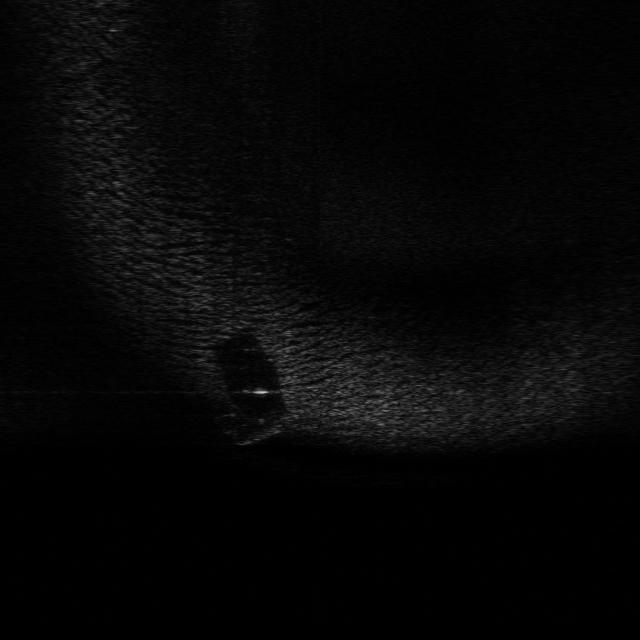cube: (210, 408, 284, 448)
